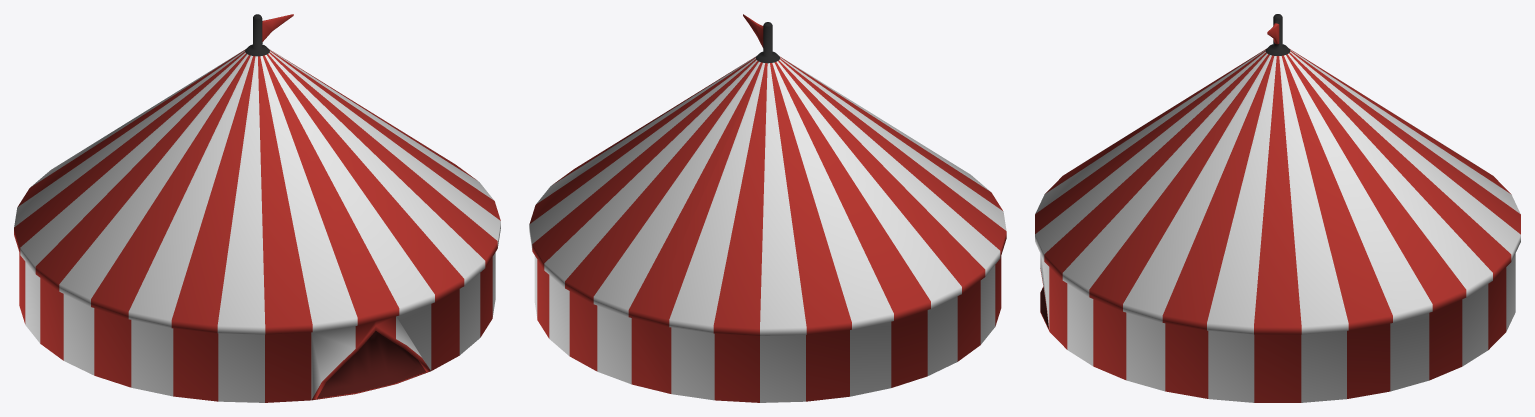
File: barraca gigante.fbx
3 views of the same model, side by side, from view 1: azimuth 30°, elevation 25°; view 2: azimuth 150°, elevation 25°; view 3: azimuth 270°, elevation 25° (orthographic). The views are drawn at different scales.
Visible parts, largest first — view 1: Tenda gigante; view 2: Tenda gigante; view 3: Tenda gigante.
Part boxes in pixels (x1,y1,x2,y2): Tenda gigante: (14,14,500,402); Tenda gigante: (529,14,1006,402); Tenda gigante: (1035,14,1520,402).
Bounding box in the file's own units: 9564 × 6238 × 9564.
